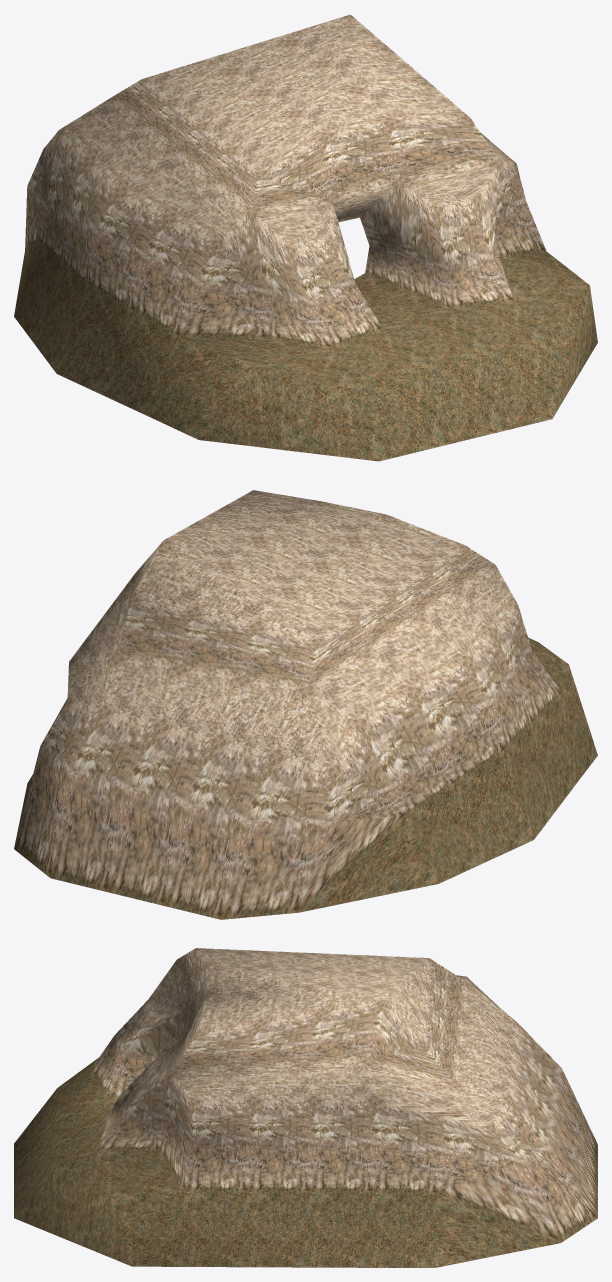
Rendered from thm_all_cave_flatland_s03_r0_mesh_l3.fbx.
The picture shows the model from 3 angles, top to bottom: view 1: azimuth 30°, elevation 25°; view 2: azimuth 150°, elevation 25°; view 3: azimuth 270°, elevation 25°; orthographic projection. The views are drawn at different scales.
Parts seen in each view (by area): view 1: mesh_node; view 2: mesh_node; view 3: mesh_node.
Part boxes in pixels (x1,y1,x2,y2): mesh_node: (14, 14, 597, 461); mesh_node: (14, 490, 597, 919); mesh_node: (14, 948, 597, 1267).
Bounding box in the file's own units: 56.42 × 30.46 × 73.46.
